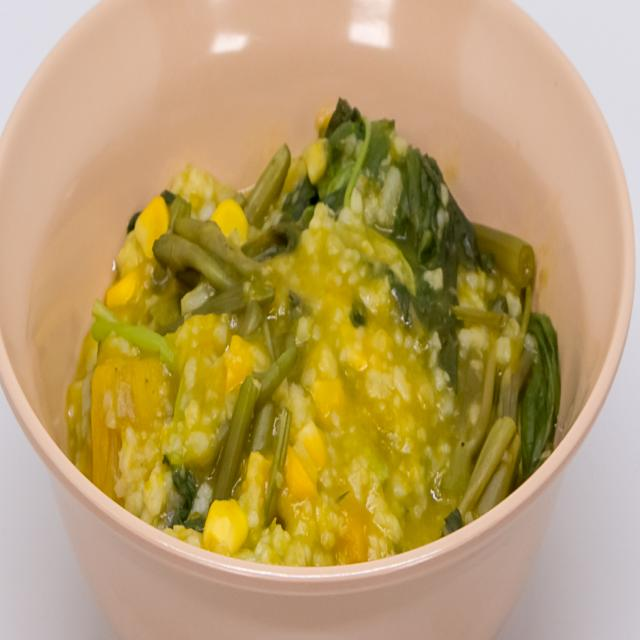Bubur-Manado: (54, 72, 570, 576)
